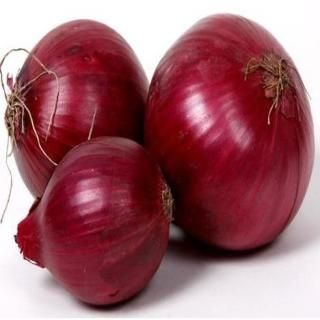Bawang Merah: (1, 11, 316, 307), (144, 12, 317, 252), (15, 135, 175, 308), (1, 19, 151, 201)
